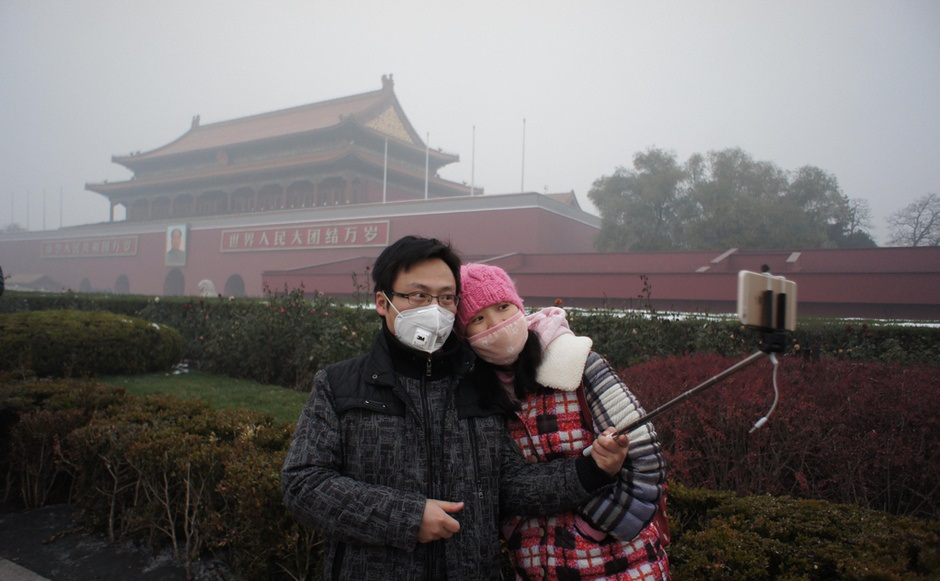face_mask: (390, 263, 457, 352), (468, 293, 530, 362)
